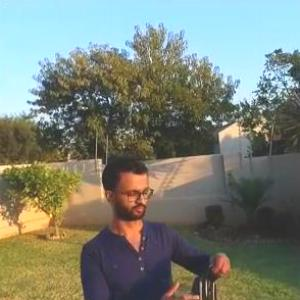follow: (84, 148, 247, 299)
